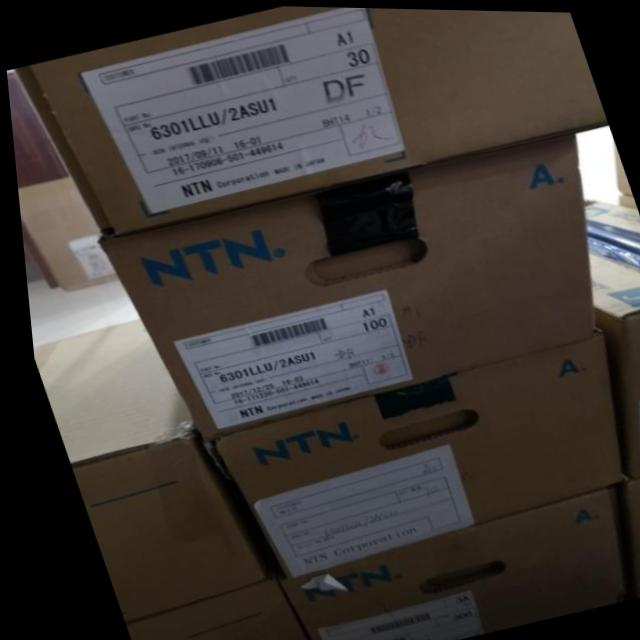box: (94, 129, 588, 442), (11, 5, 605, 235), (207, 326, 614, 576), (26, 318, 272, 622), (267, 479, 625, 640), (580, 196, 640, 477), (112, 577, 298, 640), (617, 473, 640, 592)
